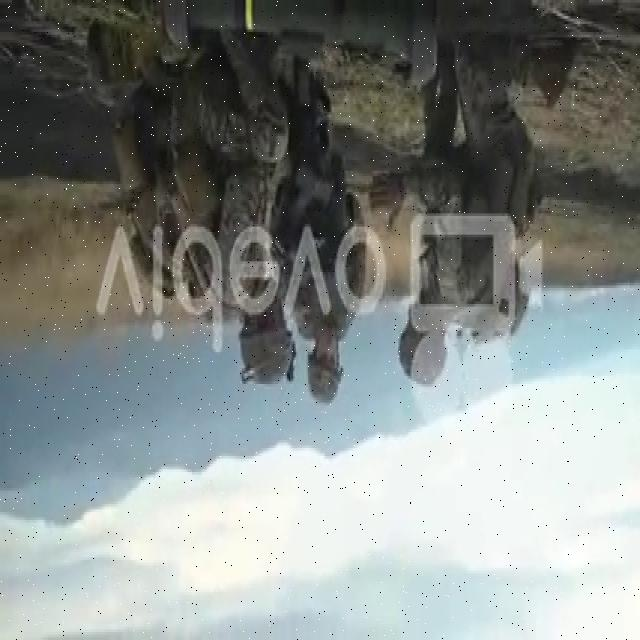bazooka: (159, 1, 449, 96)
